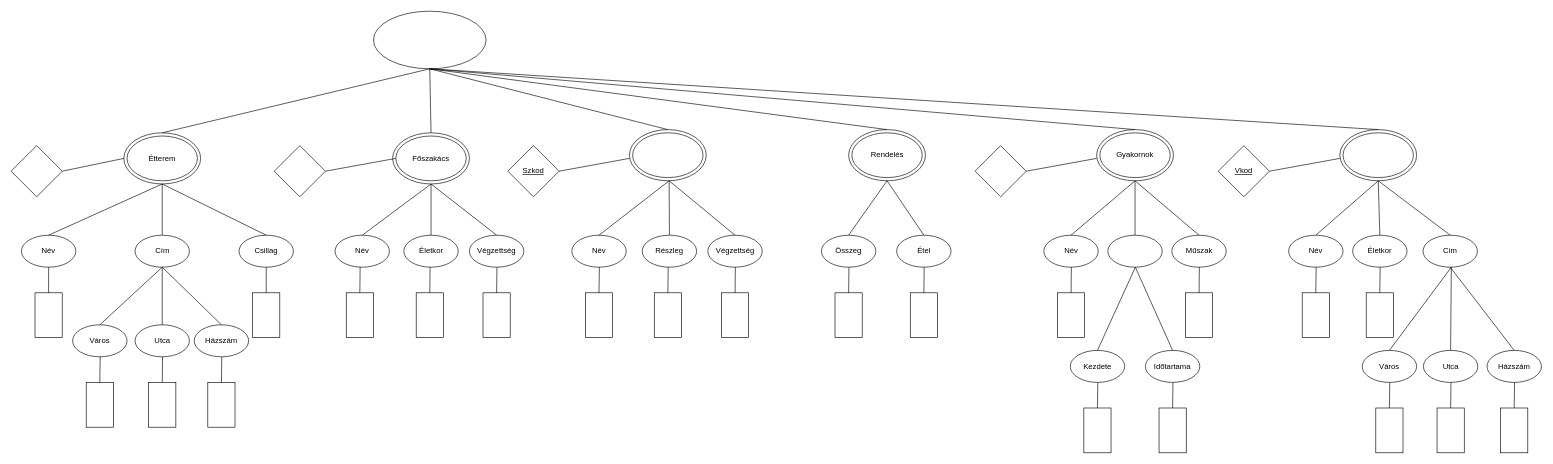
Image size: 1553x464. Some labels were removed from this diagram. Each missing label, with the centre of its shape:
"Ekod" goes at point (36, 171).
"Fkod" goes at point (299, 171).
"Gyakorlat" goes at point (1134, 251).
"Gykod" goes at point (1000, 171).
"Szakács" goes at point (667, 155).
"U7W4RZ_vendéglátás" goes at point (429, 40).
"Vendég" goes at point (1377, 155).
